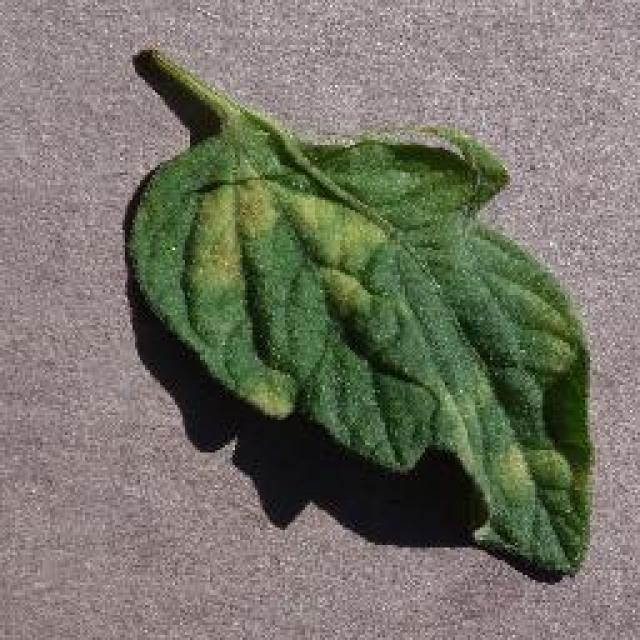leaf mold: (124, 48, 599, 577)
